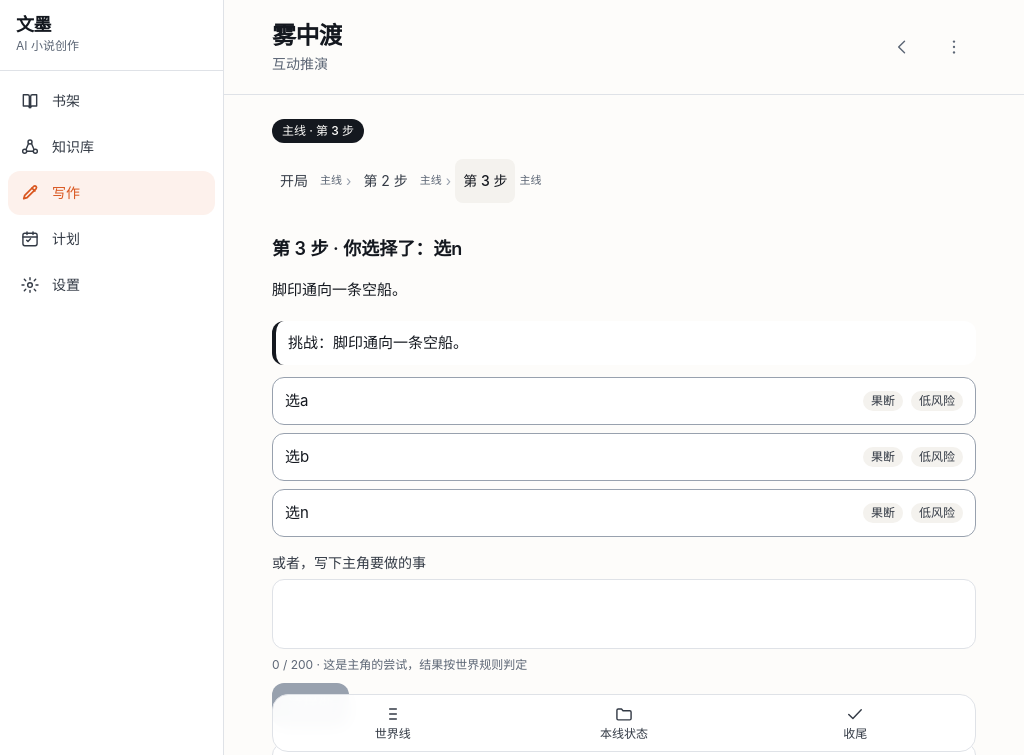
Scenario: 沉淀这条线（主线） › 打开面板只显示范围与预估，点「生成大纲」前不发请求
The width and height of the screenshot is (1024, 755).
Expected: the heading "第 3 步 · " is shown, [272, 238, 462, 259]
Click the button named "更多": (954, 47) [932, 25, 976, 69]
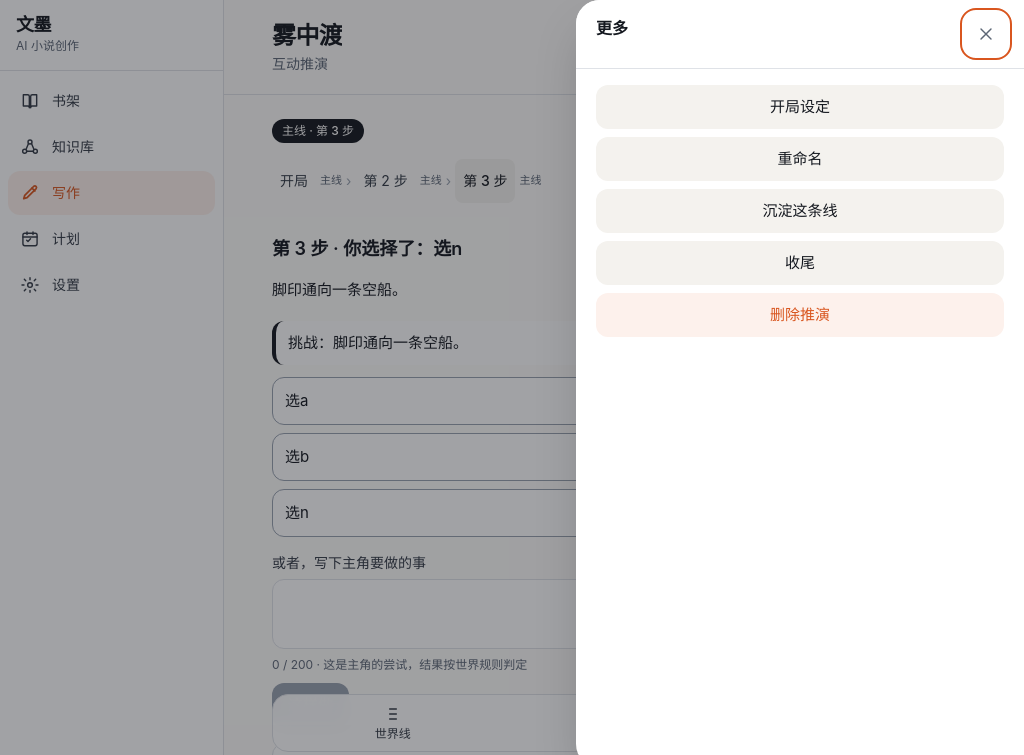
Click the button "沉淀这条线": (800, 211) [596, 189, 1004, 233]
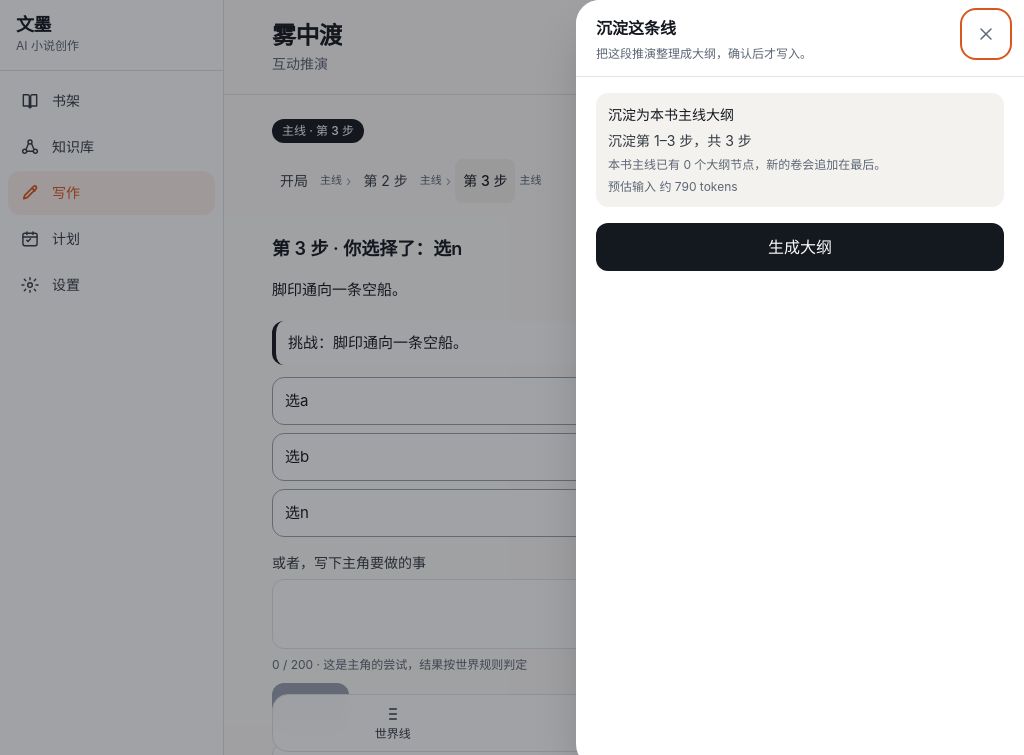
Expected: the text "沉淀为本书主线大纲" is shown, [608, 106, 734, 122]
Expected: the text "沉淀第 1–3 步，共 3 步" is shown, [608, 132, 752, 148]
Expected: the text "预估输入 约 790 tokens" is shown, [608, 178, 738, 194]
